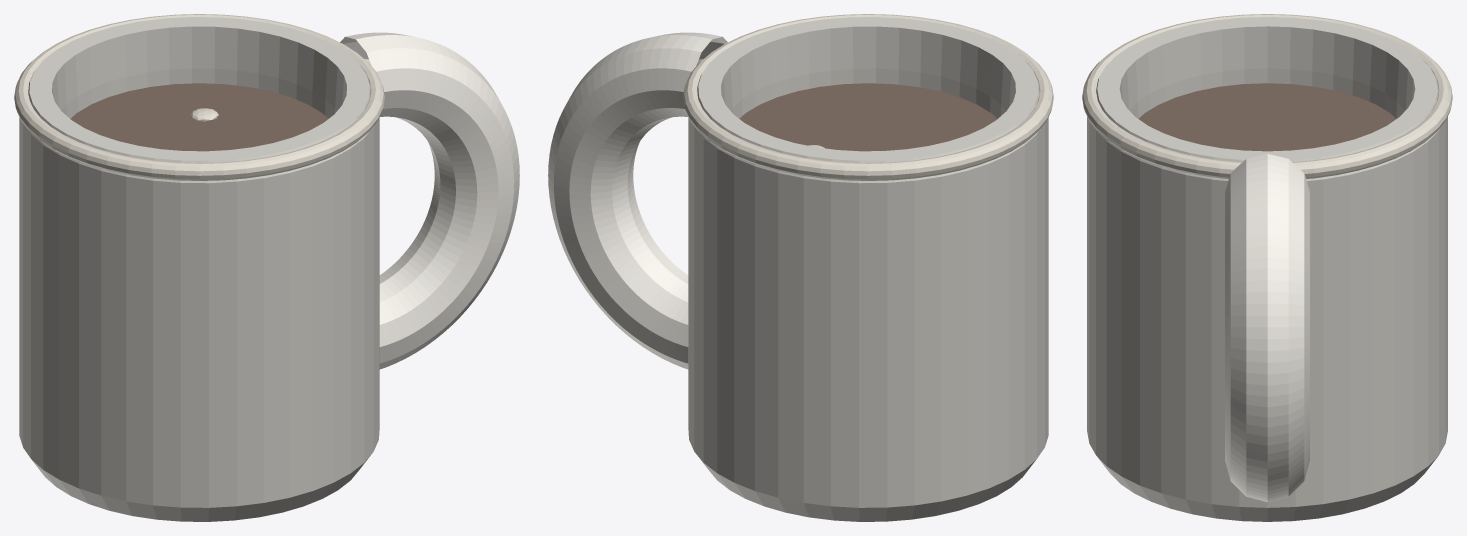
File: mug.glb
The picture shows the model from 3 angles, left to right: view 1: azimuth 30°, elevation 25°; view 2: azimuth 150°, elevation 25°; view 3: azimuth 270°, elevation 25°; orthographic projection.
Visible parts, largest first — view 1: ceramic_mug_0, mug_handle_3, wood_edge_1, cream_2; view 2: ceramic_mug_0, mug_handle_3, wood_edge_1, cream_2; view 3: ceramic_mug_0, mug_handle_3, wood_edge_1, cream_2.
Part boxes in pixels (left/top/right/bottom): ceramic_mug_0: left=19, top=17, right=379, bottom=521; mug_handle_3: left=340, top=32, right=519, bottom=369; wood_edge_1: left=70, top=83, right=328, bottom=151; cream_2: left=14, top=14, right=384, bottom=180; ceramic_mug_0: left=688, top=17, right=1048, bottom=521; mug_handle_3: left=548, top=32, right=727, bottom=369; wood_edge_1: left=739, top=83, right=997, bottom=151; cream_2: left=683, top=14, right=1053, bottom=180; ceramic_mug_0: left=1087, top=17, right=1447, bottom=521; mug_handle_3: left=1225, top=154, right=1309, bottom=502; wood_edge_1: left=1138, top=83, right=1396, bottom=151; cream_2: left=1082, top=14, right=1452, bottom=178.
Size of the model in its own units: 1.1 by 0.825 by 0.74.
